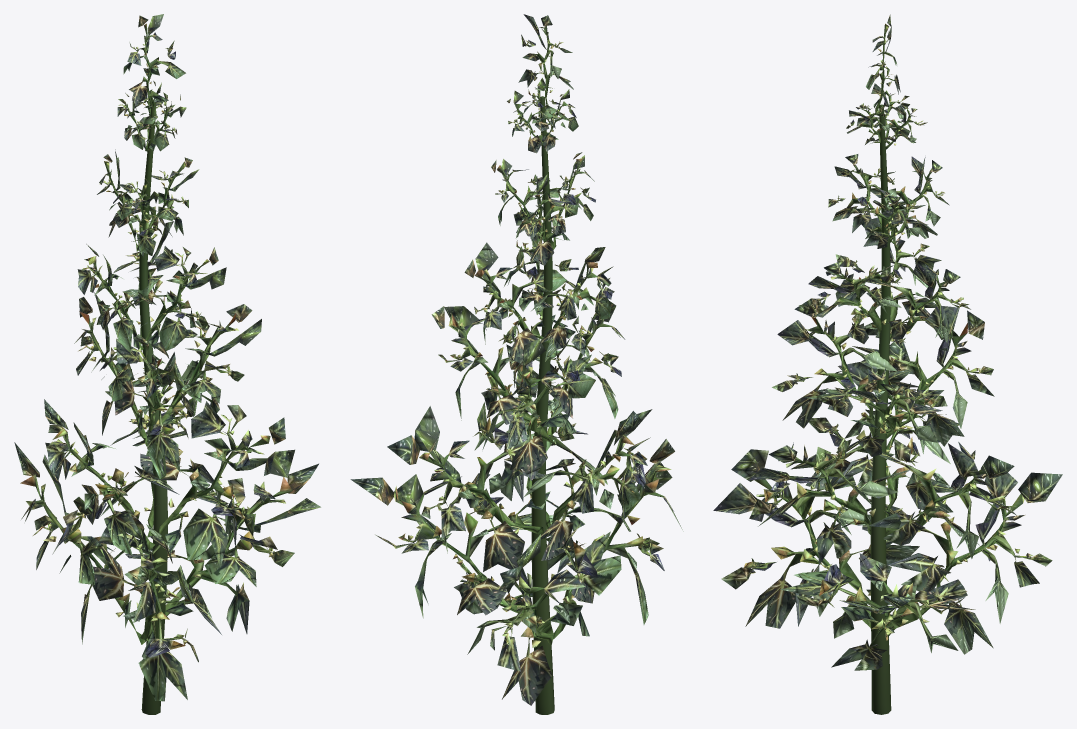
Rendered from sky_spire.glb.
3 renders of one model, left to right at view 1: azimuth 30°, elevation 25°; view 2: azimuth 150°, elevation 25°; view 3: azimuth 270°, elevation 25°, orthographic.
Visible parts, largest first — view 1: Mesh; view 2: Mesh; view 3: Mesh.
Part boxes in pixels (bbox=[...]): Mesh: bbox=[14, 14, 321, 714]; Mesh: bbox=[350, 14, 683, 714]; Mesh: bbox=[713, 14, 1062, 714].
Bounding box in the file's own units: 1.05 × 2.52 × 1.15.
1 material, 1 textured.
